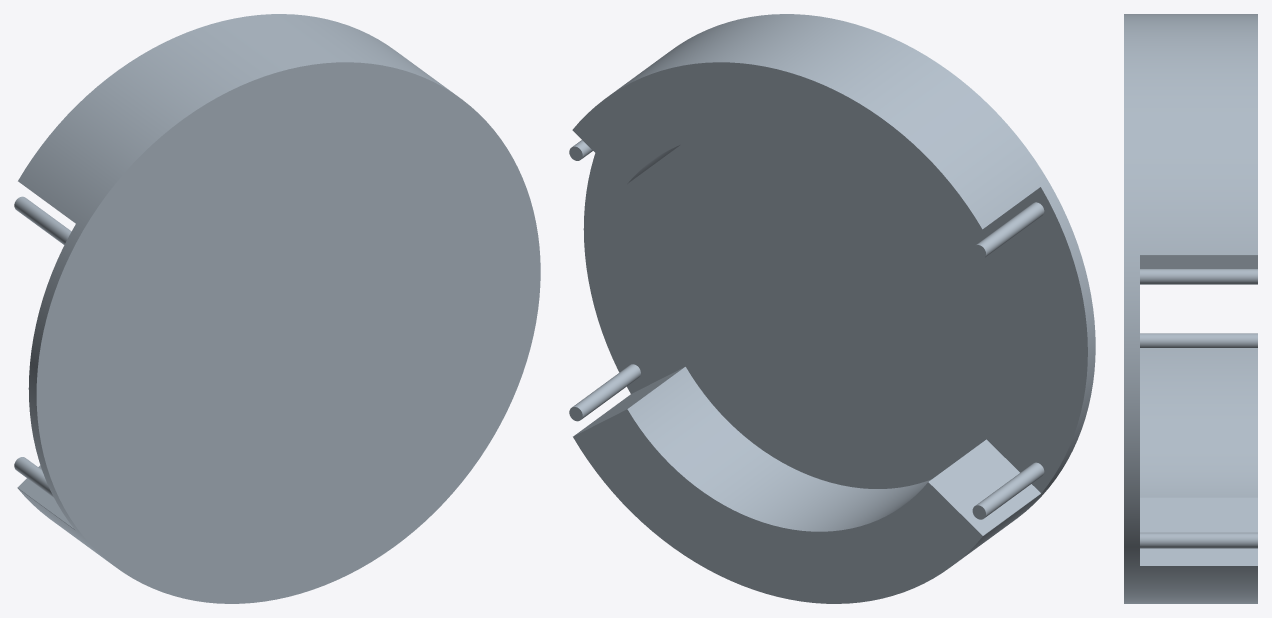
File: middle_rotator.obj
3 views of the same model, side by side, from view 1: azimuth 30°, elevation 25°; view 2: azimuth 150°, elevation 25°; view 3: azimuth 270°, elevation 25° (orthographic).
Visible parts, largest first — view 1: 1; view 2: 1; view 3: 1.
Part boxes in pixels (bbox=[...]): 1: bbox=[14, 14, 540, 603]; 1: bbox=[569, 14, 1095, 603]; 1: bbox=[1124, 14, 1257, 603].
Bounding box in the file's own units: 75 × 75 × 17.
